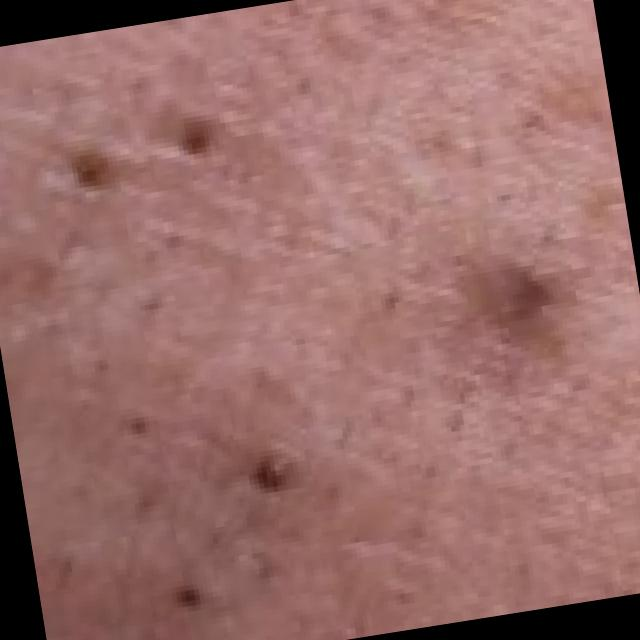blackhead: (253, 452, 290, 492), (178, 120, 212, 156), (74, 154, 104, 188), (176, 584, 202, 610)
